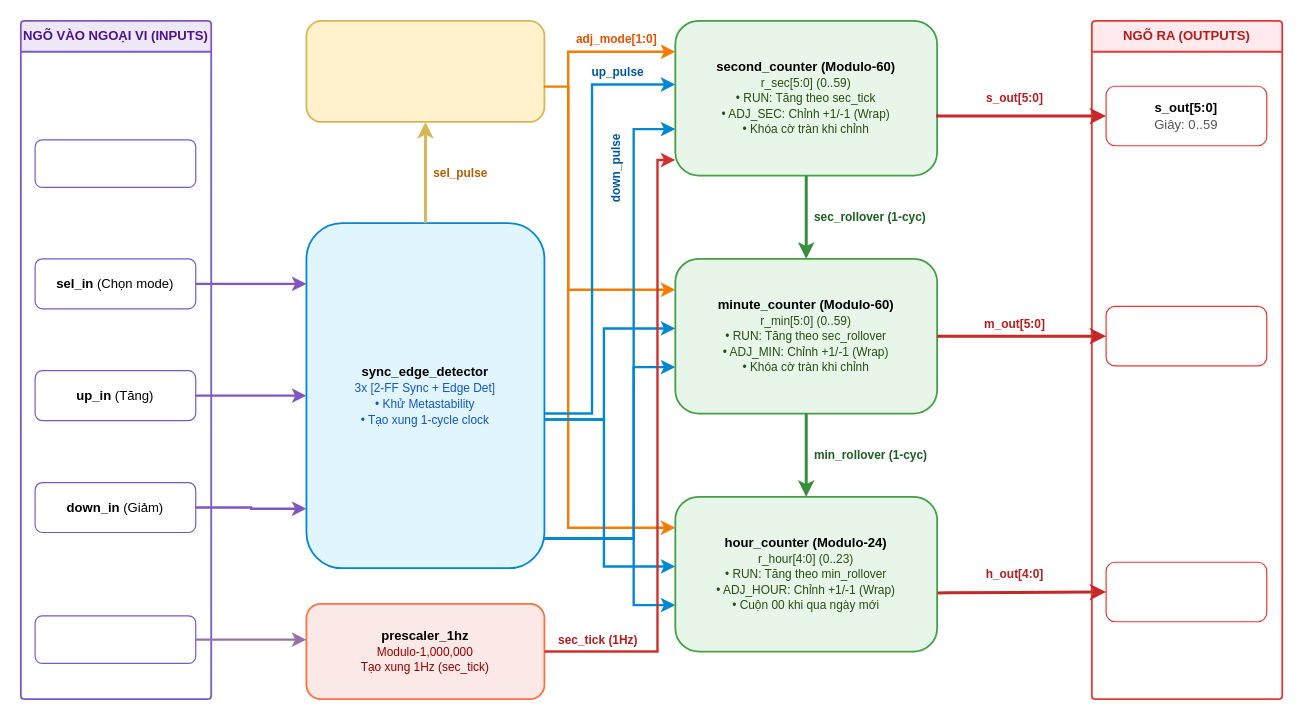
Image size: 1304x721. Some labels were removed from this diagram. The centre of each missing label's shape, as x and y in pixels:
clk (1 MHz): point 115,639
h_out[4:0] Giờ: 0..23: point 1186,591
m_out[5:0] Phút: 0..59: point 1186,335
mode_controller FSM 4 Trạng thái: RUN(00) → SEC(01) → MIN(10) → HOUR(11): point 425,70
rstn (Active-Low): point 115,163
